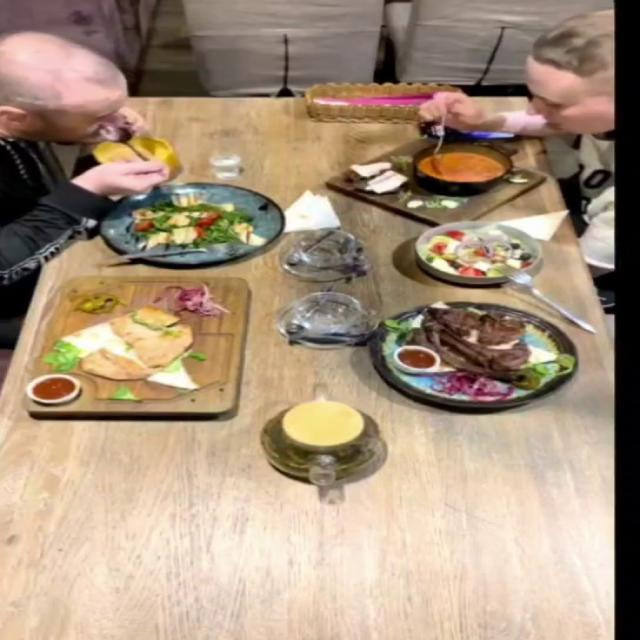alcohol: (202, 152, 265, 177)
meat: (367, 302, 579, 408)
salat: (96, 183, 282, 265), (413, 220, 545, 285)
soup: (319, 134, 547, 228), (92, 138, 181, 179)
tea: (281, 400, 364, 447)
